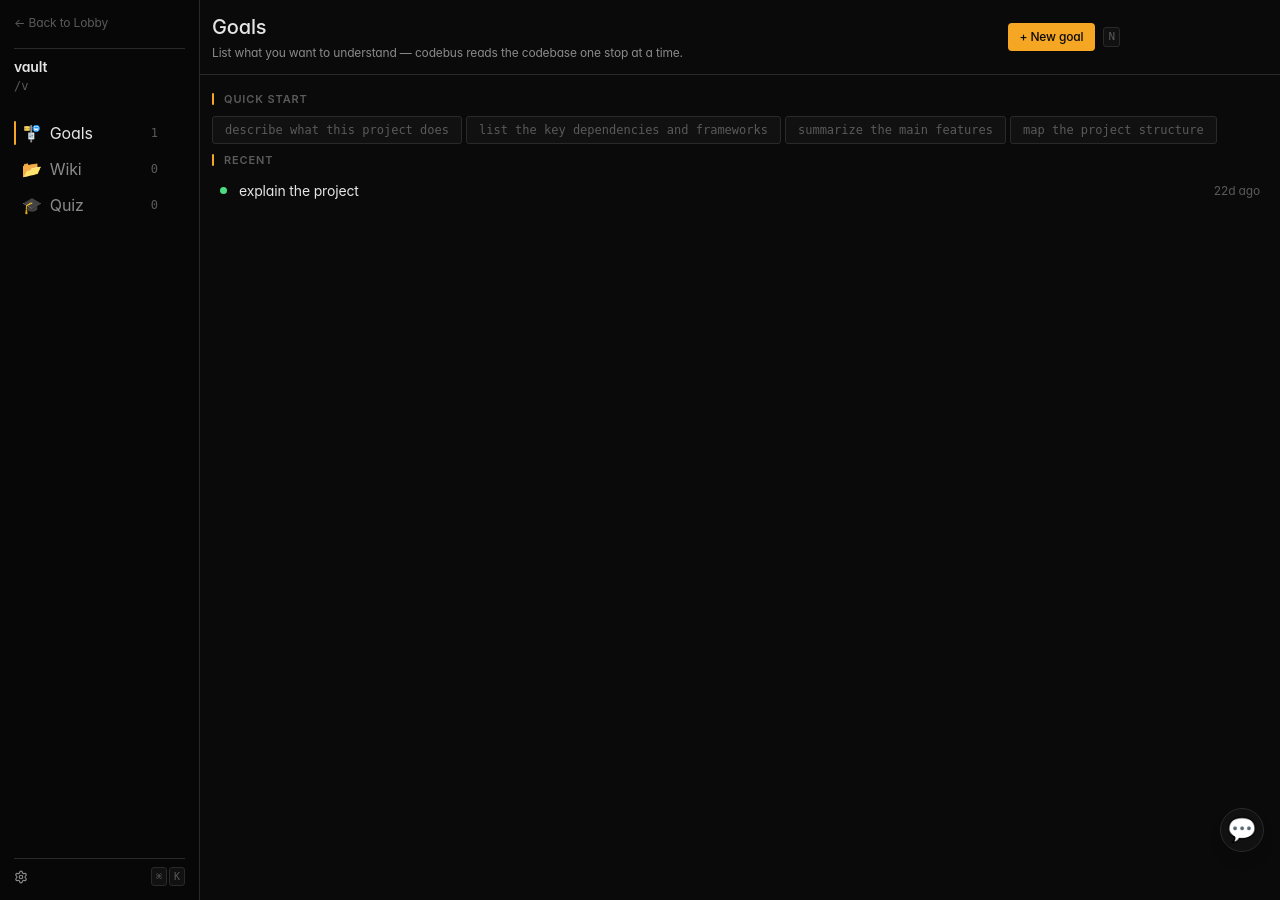
Test: Workspace › Run Detail Load Failure Surfacing › get_run_detail rejection shows a retriable error state, not the loading affordance
This screenshot has width=1280, height=900.
Click the button "explain the project 22d ago". click: (299, 190)
box: left=208, top=172, right=1272, bottom=209
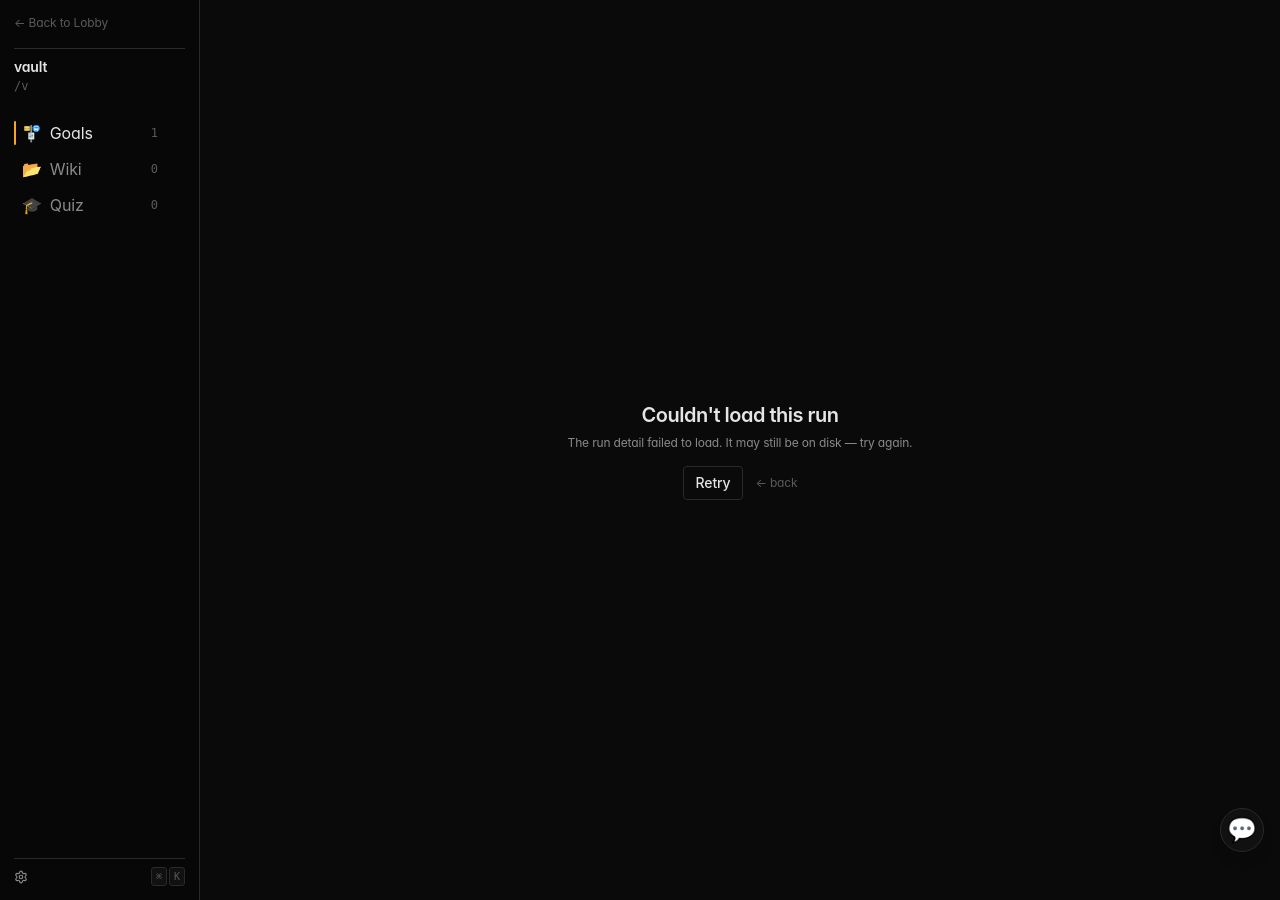
Result: the element with test id "run-detail-load-error" is shown at left=568, top=403, right=912, bottom=500
Result: the button with test id "run-detail-load-error-retry" is shown at left=683, top=466, right=743, bottom=500
Result: the button with test id "run-detail-load-error-back" is shown at left=755, top=474, right=797, bottom=492
